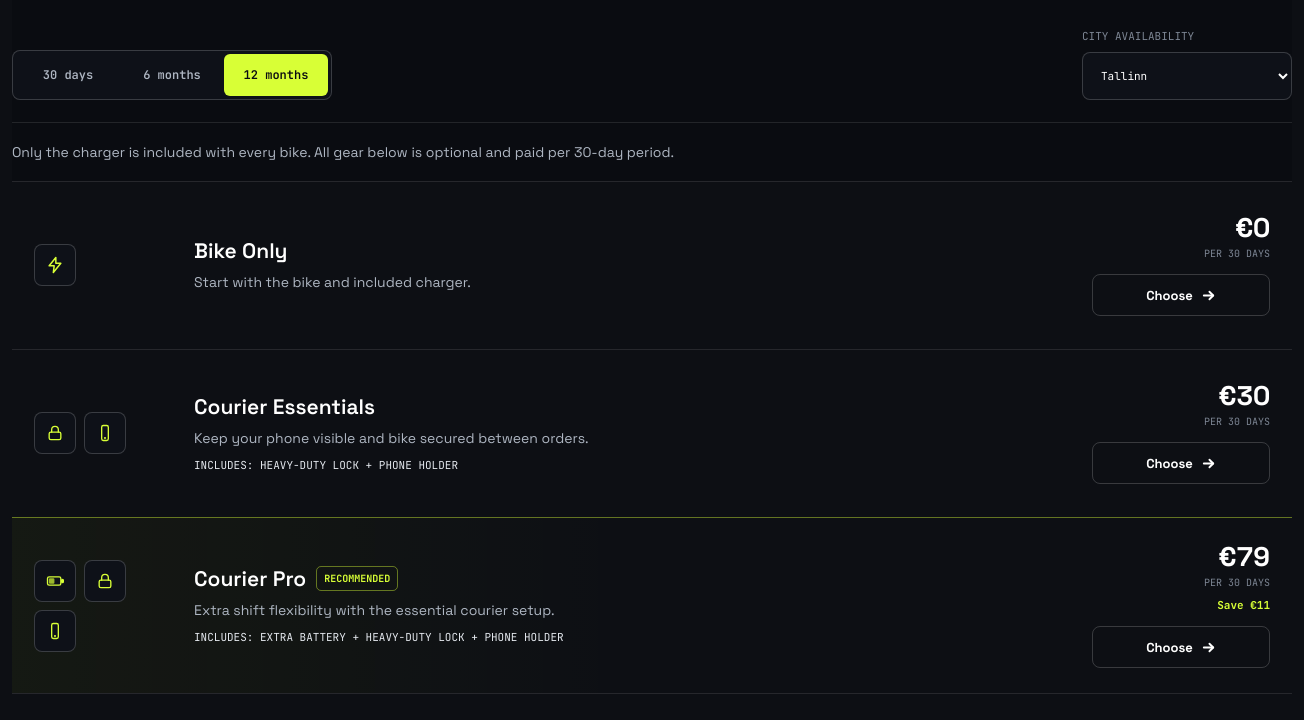
Scenario: AccessoryPackages › renders current server prices, computed saving, and honest optional copy
The image size is (1304, 720).
Expected: the heading "Courier Pro" is shown, [194,566,306,592]
Expected: the text "€79" is shown, [1218,543,1270,570]
Click the button "30 days". click: {"x": 68, "y": 74}
box: [16,54,120,96]
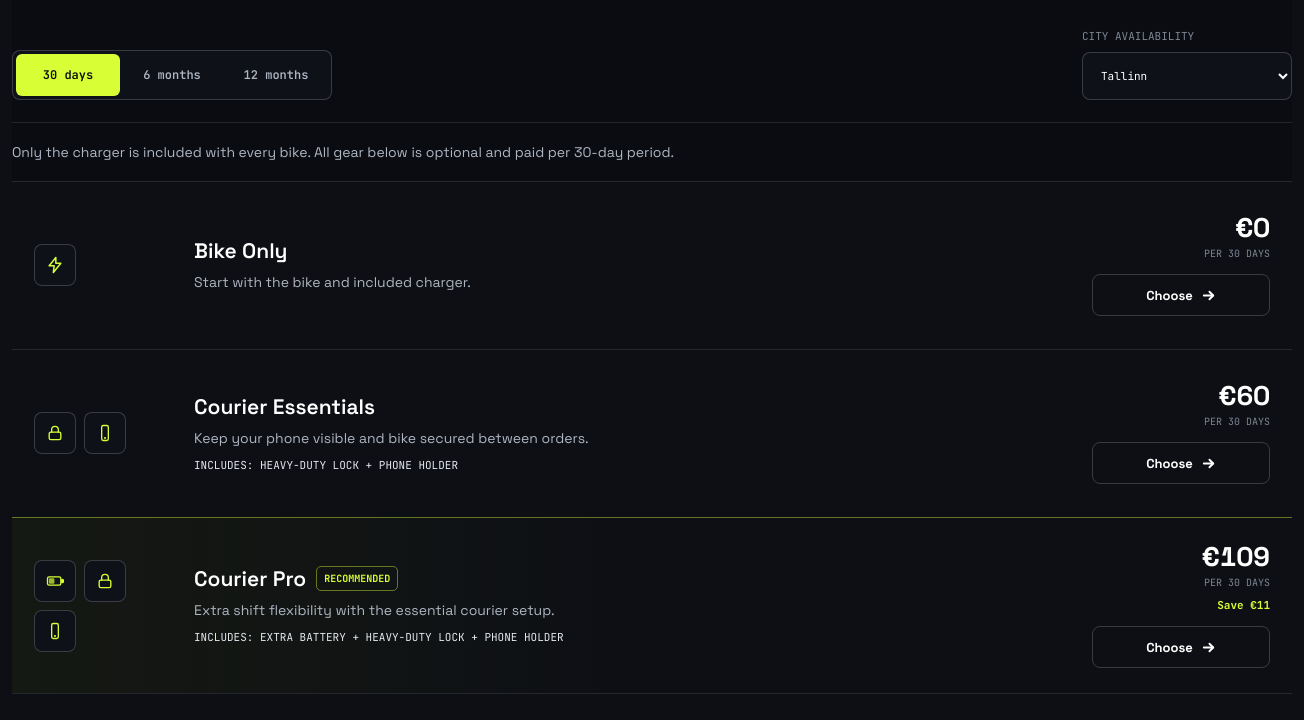
Expected: the text "€109" is shown, [1202,543,1270,570]
